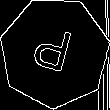P_S: (30, 24, 79, 82)
